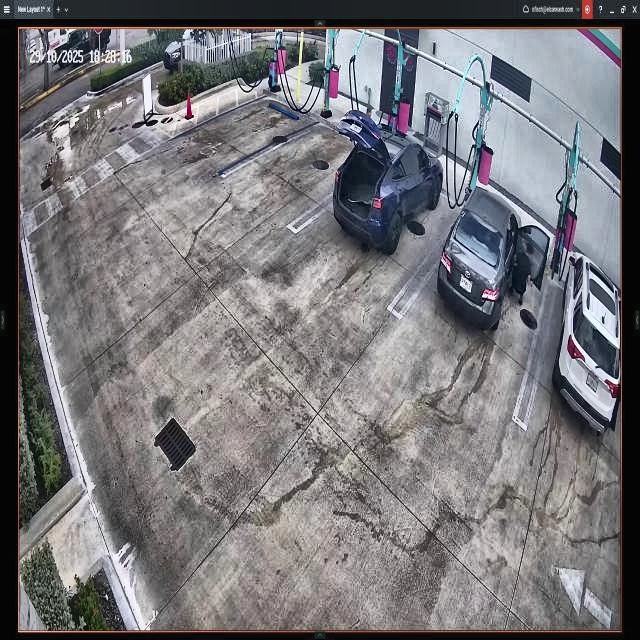Car: (332, 111, 443, 253), (440, 186, 548, 331)
